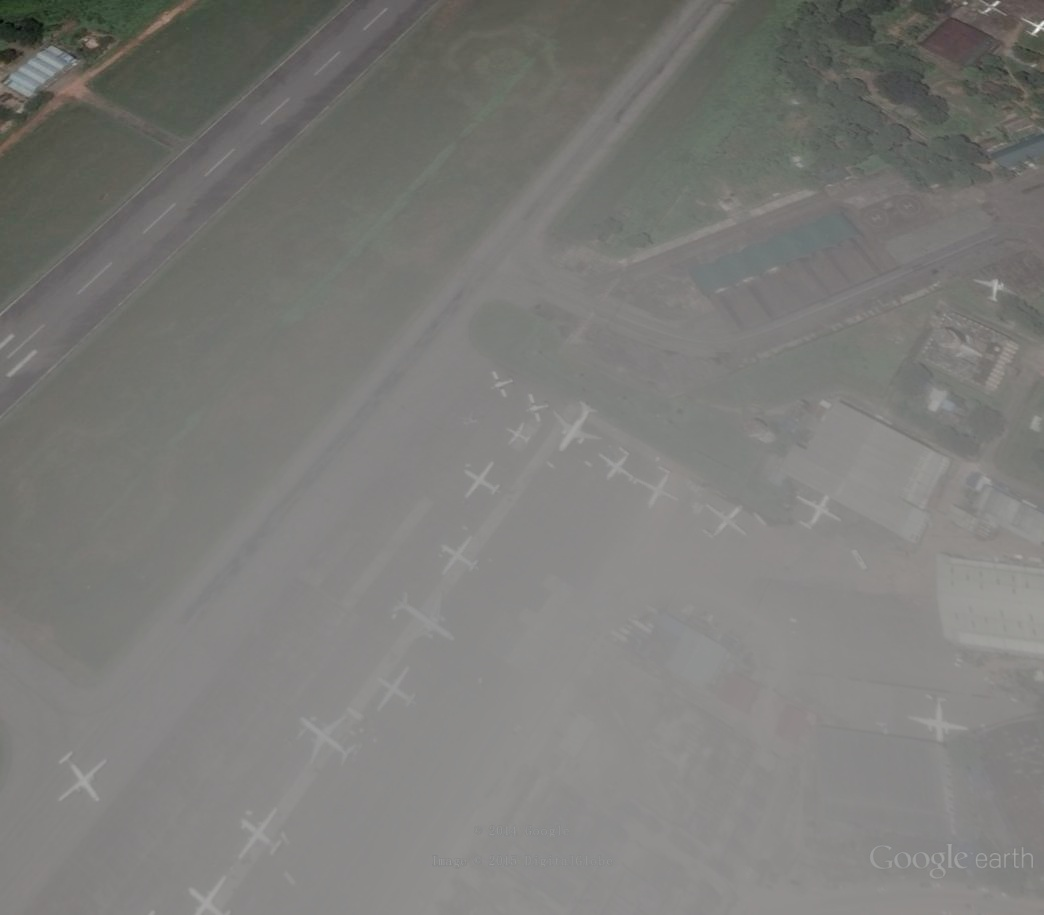aircraft: (389, 589, 458, 648), (297, 711, 360, 771), (906, 691, 971, 748), (50, 748, 110, 808), (552, 398, 607, 456), (236, 804, 287, 865), (373, 665, 420, 717), (632, 466, 683, 512), (185, 873, 239, 915), (790, 492, 844, 533), (702, 499, 749, 544), (460, 457, 504, 502), (438, 532, 481, 578), (971, 274, 1025, 307), (597, 445, 637, 484), (522, 391, 551, 429), (485, 368, 514, 405), (503, 420, 535, 449), (974, 1, 1013, 21), (1019, 13, 1044, 42)
